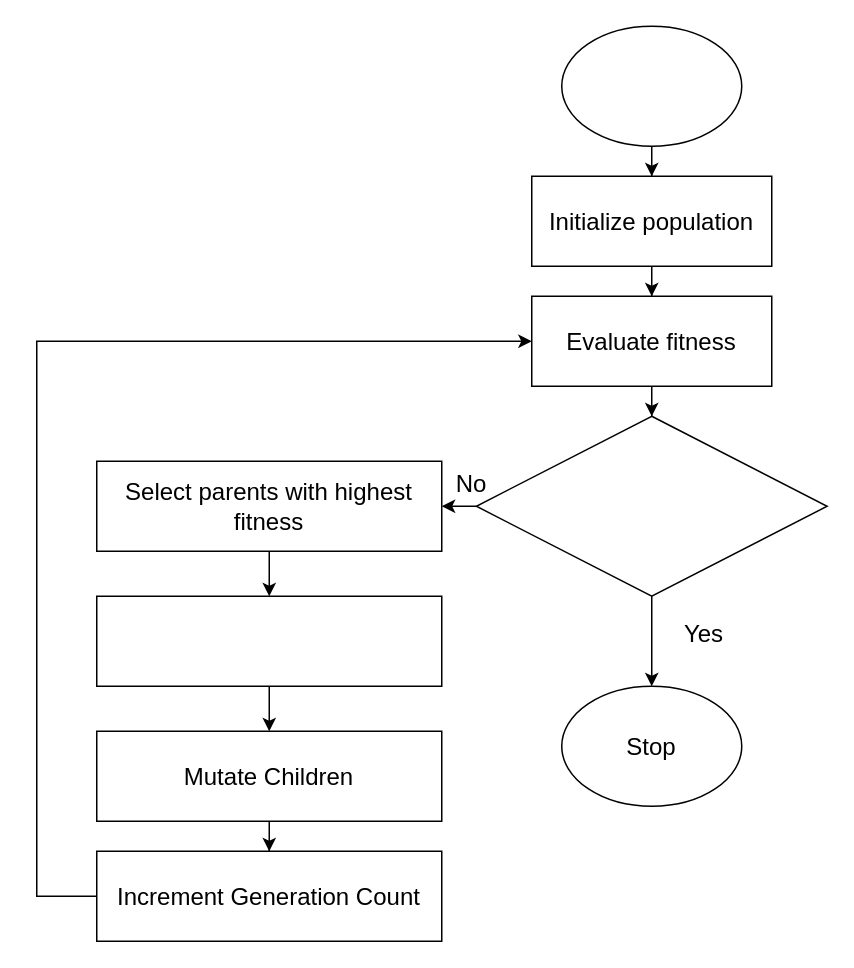
The diagram is 854 pixels wide and 968 high, and some of its shapes have lost their labels. Each missing label, with the centre of its shape:
"Check if last generation is evaluated" belongs at pixel 651 505.
"Perform Crossover" belongs at pixel 268 640.
"Start" belongs at pixel 651 85.
